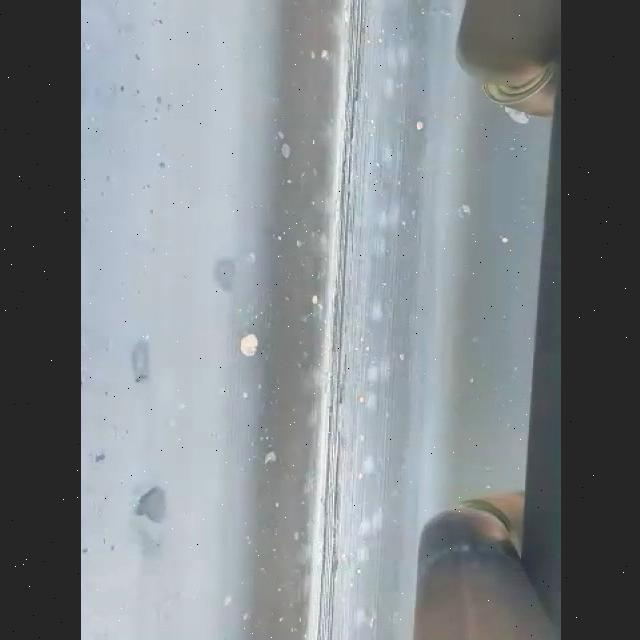Wear: (312, 0, 370, 640)
